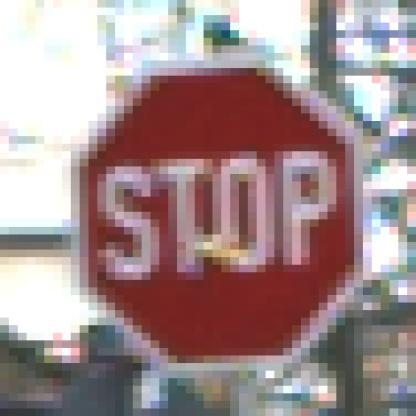Stop: (76, 73, 364, 369)
